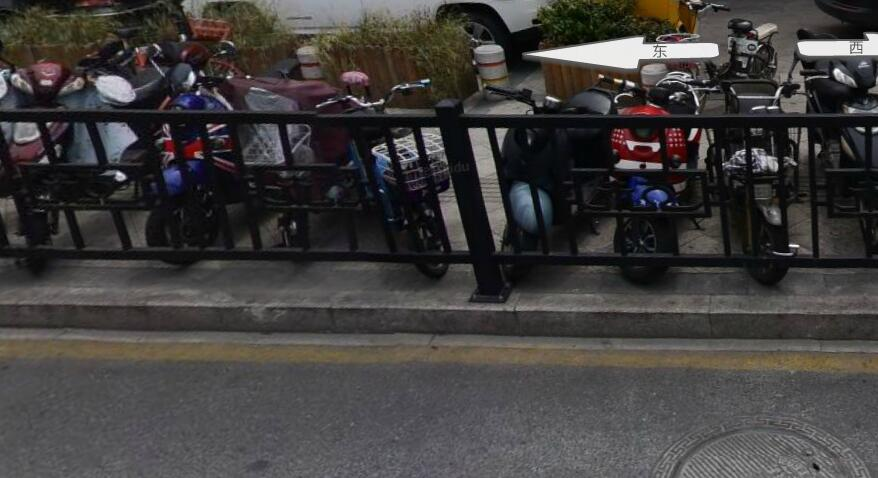side: (515, 295, 711, 338), (145, 285, 332, 329), (335, 291, 516, 333), (713, 294, 878, 338), (2, 286, 146, 331)
